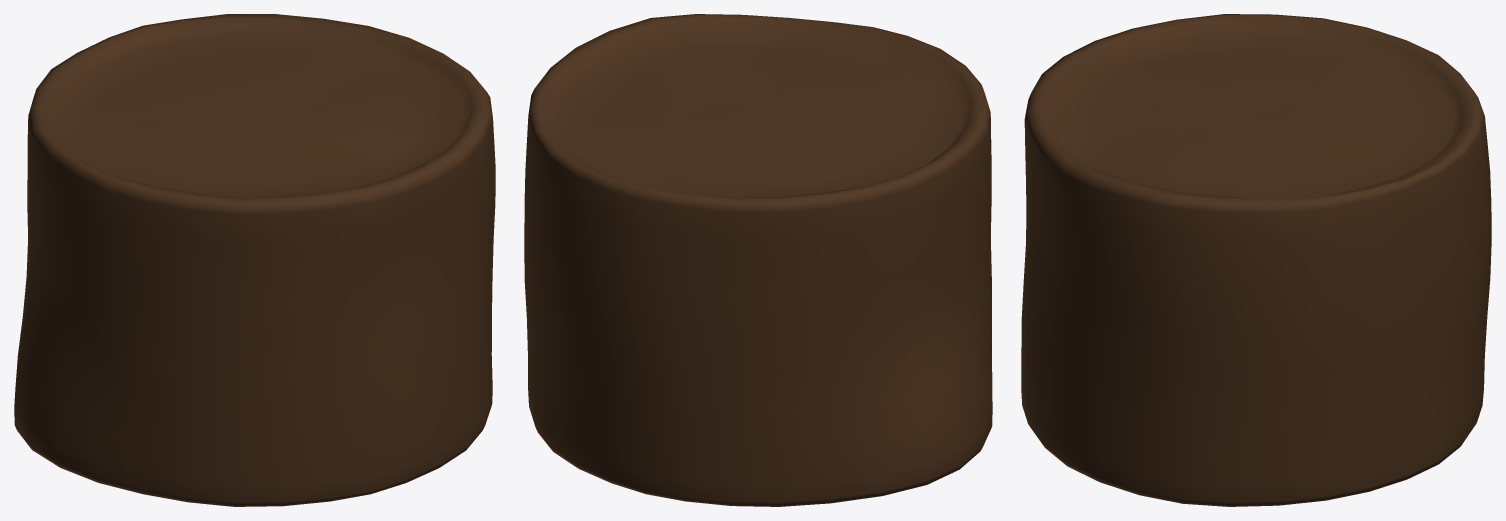
Rendered from stump.glb.
3 renders of one model, left to right at view 1: azimuth 30°, elevation 25°; view 2: azimuth 150°, elevation 25°; view 3: azimuth 270°, elevation 25°, orthographic.
Parts seen in each view (by area): view 1: Stump; view 2: Stump; view 3: Stump.
Part boxes in pixels (x1,y1,x2,y2): Stump: [14, 14, 495, 506]; Stump: [524, 14, 992, 506]; Stump: [1021, 14, 1491, 506].
Size of the model in its own units: 0.7187 by 0.5033 by 0.6974.
